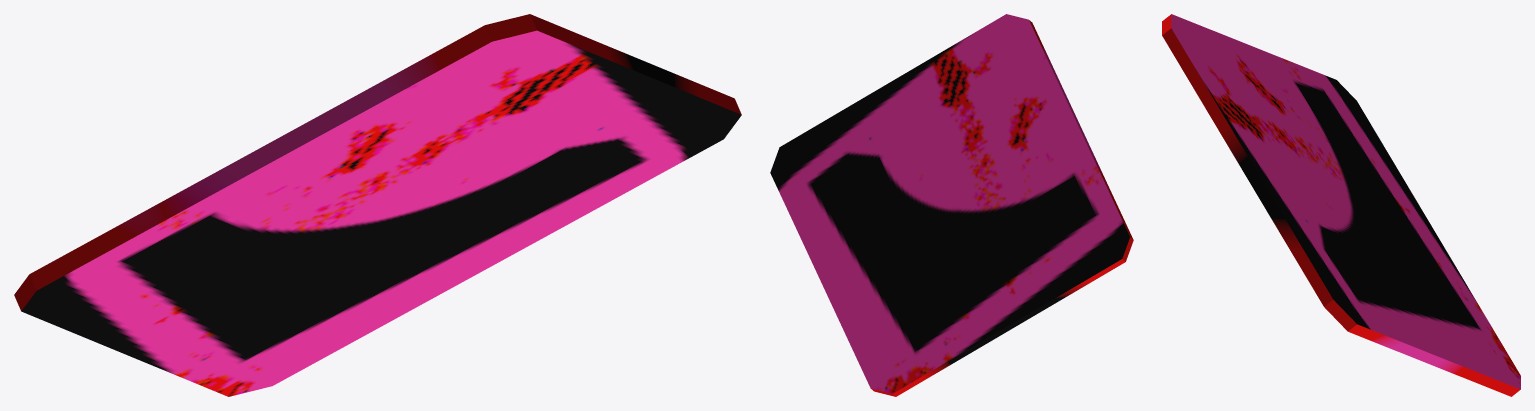
The model's file is parked.ico.obj.
3 views of the same model, side by side, from view 1: azimuth 30°, elevation 25°; view 2: azimuth 150°, elevation 25°; view 3: azimuth 270°, elevation 25° (orthographic). The views are drawn at different scales.
Size of the model in its own units: 4.75 by 3.64 by 3.22.
